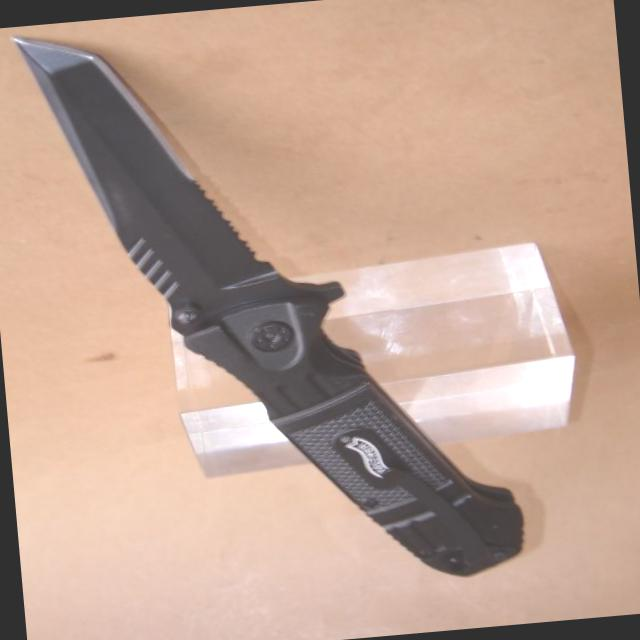knife: (8, 14, 254, 316)
